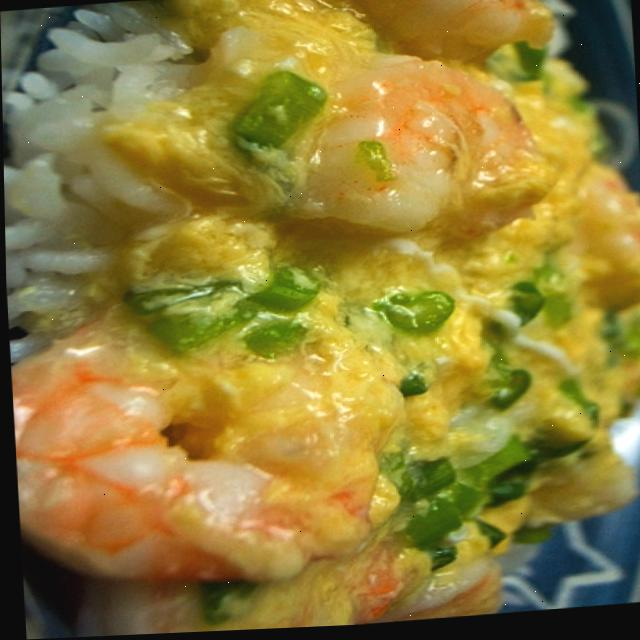鸡蛋料理: (9, 0, 640, 640)
